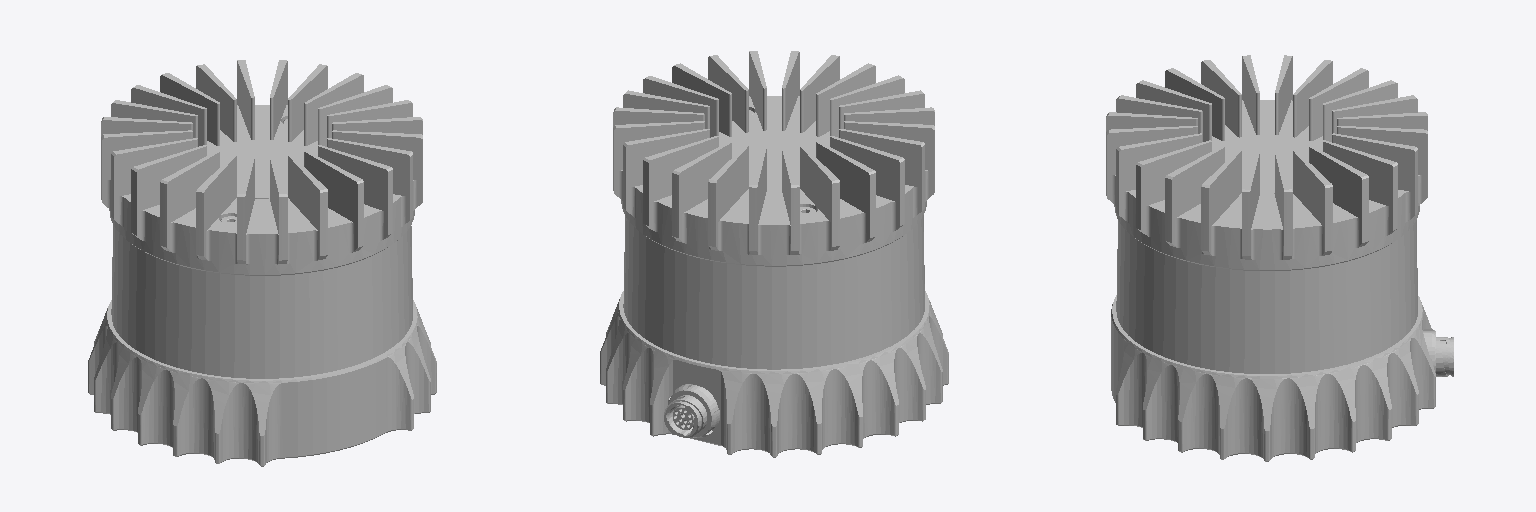
File: Ouster.obj
3 views of the same model, side by side, from view 1: azimuth 30°, elevation 25°; view 2: azimuth 150°, elevation 25°; view 3: azimuth 270°, elevation 25° (orthographic).
Bounding box in the file's own units: 87 × 73.5 × 86.71.